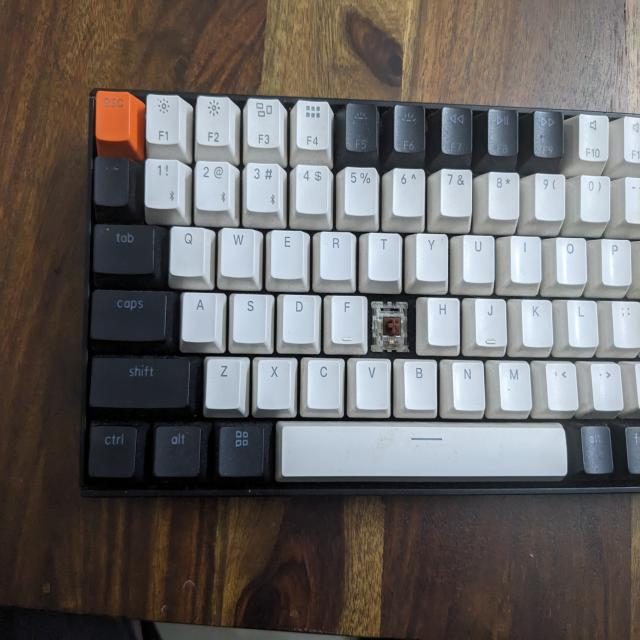C: (372, 299, 412, 352)
